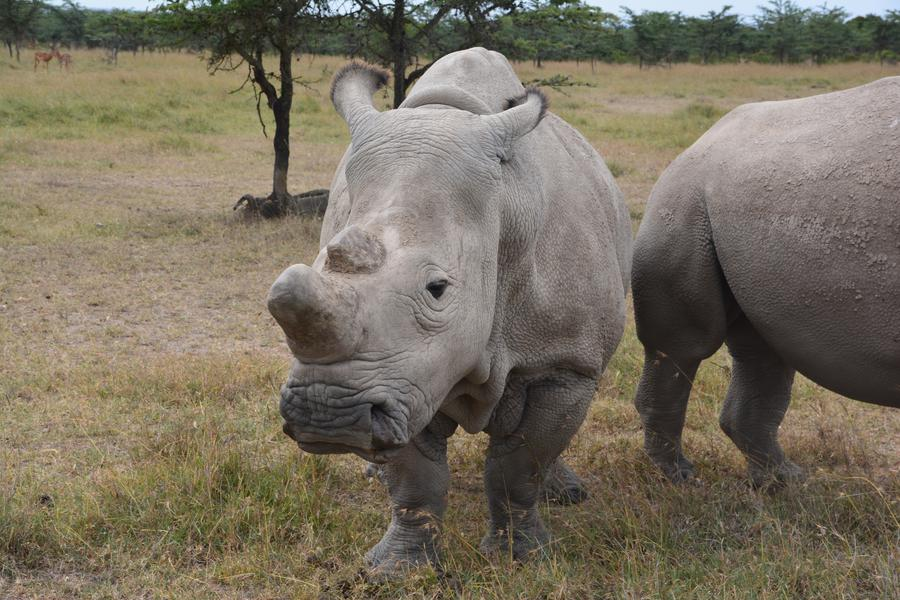rhino: (263, 47, 627, 572), (639, 39, 897, 472)
